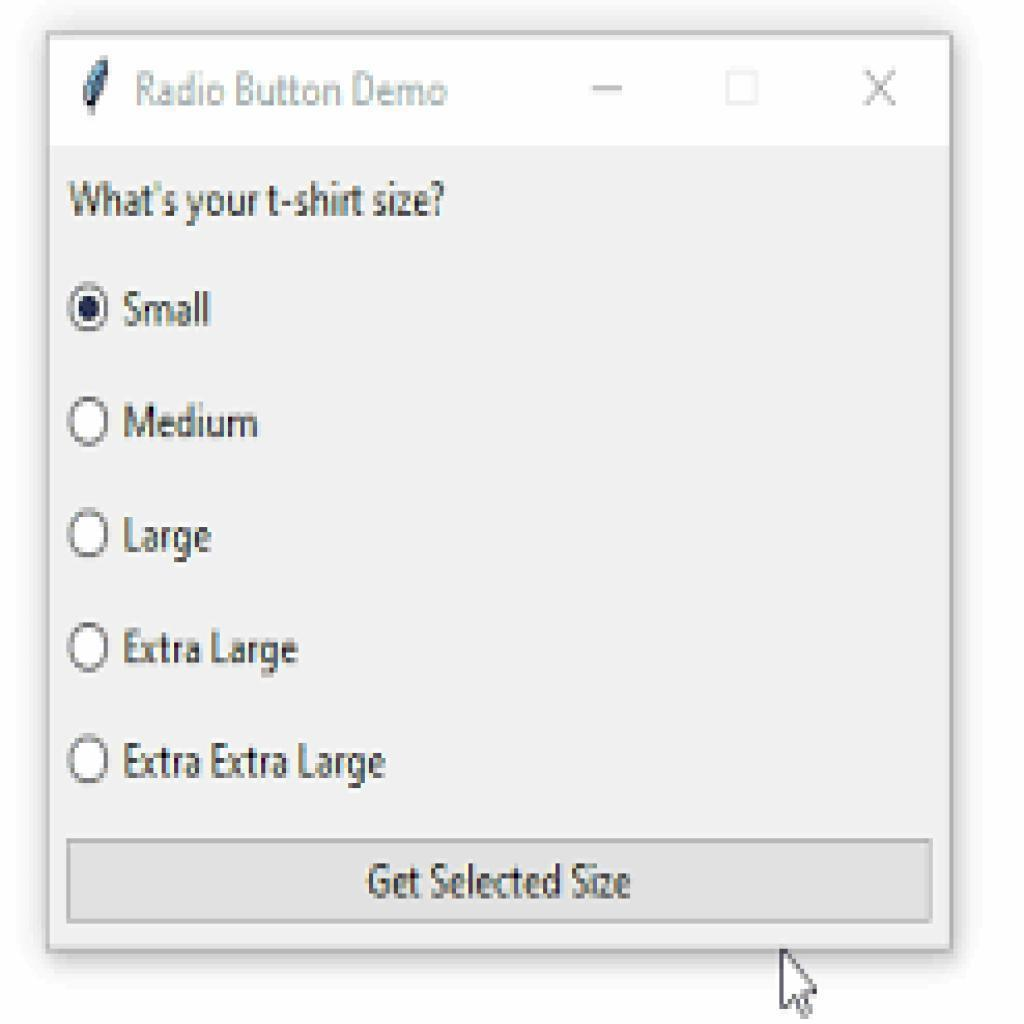button: (68, 840, 931, 922)
label: (56, 173, 448, 224), (122, 731, 387, 785), (122, 620, 300, 673), (125, 390, 265, 445), (114, 511, 217, 560), (123, 283, 218, 334)
radio: (66, 278, 113, 339), (67, 394, 116, 451), (63, 731, 111, 787), (69, 504, 114, 562), (68, 619, 112, 678)
